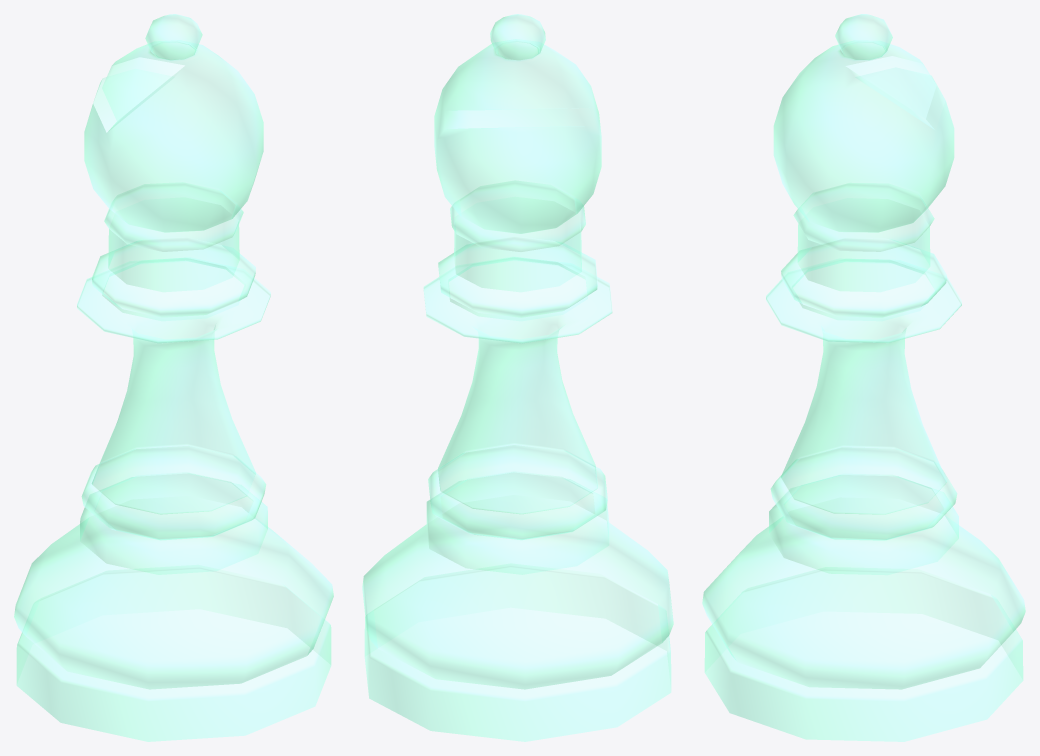
File: item-2-13.glb
3 renders of one model, left to right at view 1: azimuth 30°, elevation 25°; view 2: azimuth 150°, elevation 25°; view 3: azimuth 270°, elevation 25°, orthographic.
Parts seen in each view (by area): view 1: BlackBishop; view 2: BlackBishop; view 3: BlackBishop.
Part boxes in pixels (x1,y1,x2,y2): BlackBishop: [14, 14, 333, 741]; BlackBishop: [362, 14, 673, 741]; BlackBishop: [702, 14, 1025, 741].
Bounding box in the file's own units: 0.0928 × 0.2155 × 0.0958.
